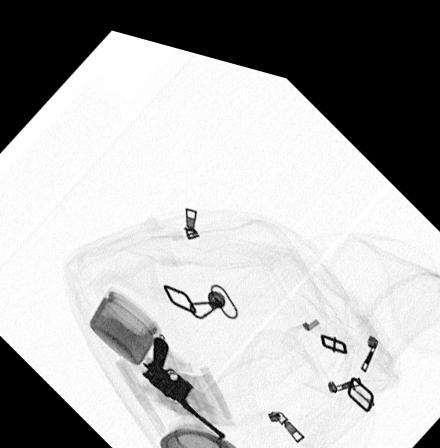Gun: (139, 325, 224, 430)
